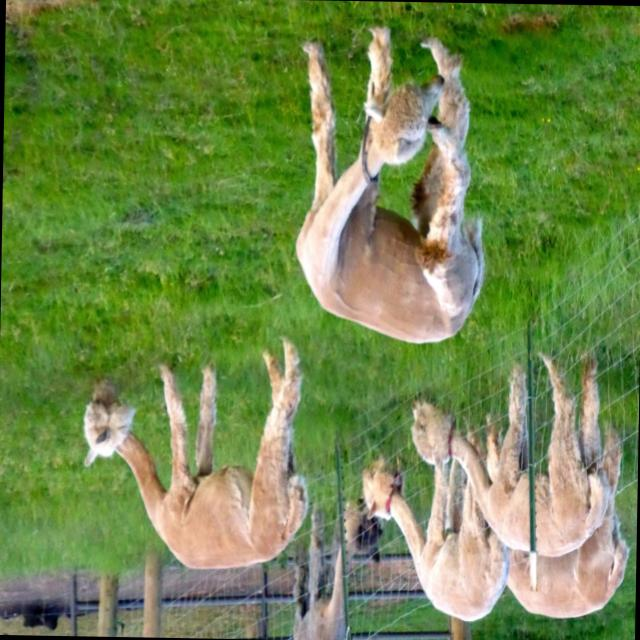alpaca: (292, 22, 486, 346), (81, 336, 308, 570), (408, 348, 611, 558), (359, 432, 507, 621), (292, 500, 383, 640)
